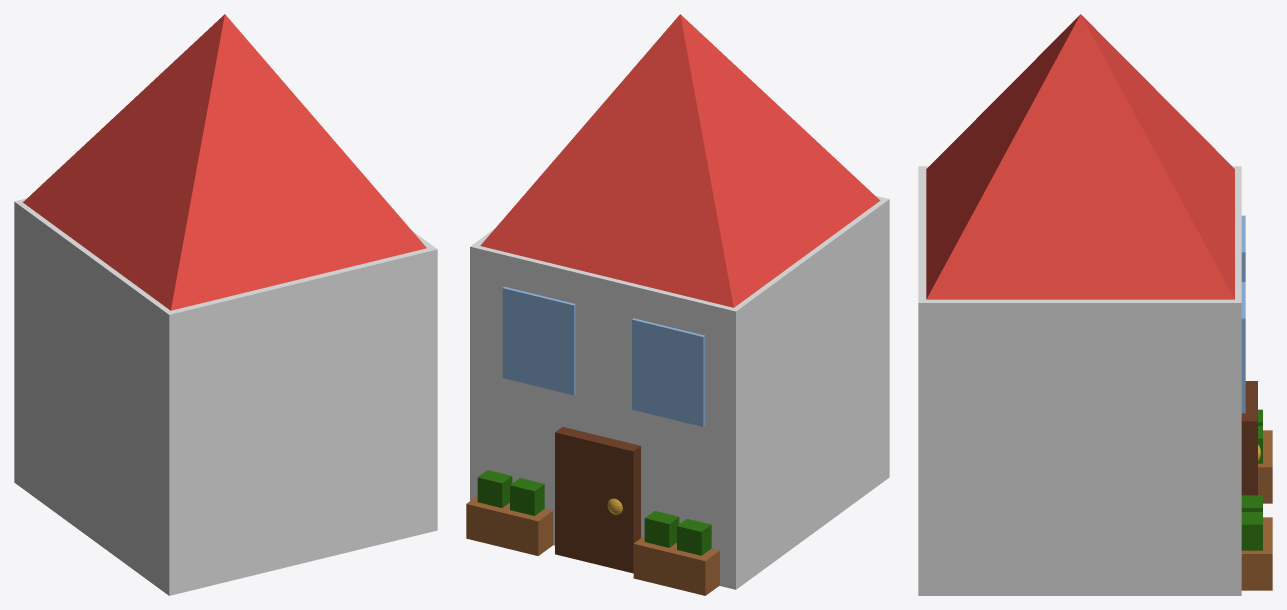
File: house.fbx
3 views of the same model, side by side, from view 1: azimuth 30°, elevation 25°; view 2: azimuth 150°, elevation 25°; view 3: azimuth 270°, elevation 25° (orthographic). The views are drawn at different scales.
Parts seen in each view (by area): view 1: Cube, Cone; view 2: Cube, Cone, Cube.001, Cube.003, Cube.002, Cube.004, Cube.005, Cube.008, Cube.009, Cube.006, Cube.007; view 3: Cube, Cone, Cube.001, Cube.005, Cube.004, Cube.009, Cube.003.
Boxes of the visible parts, box(x1,y1,x2,y2) form: Cube: box(14, 198, 437, 595); Cone: box(23, 14, 426, 310); Cube: box(470, 195, 889, 589); Cone: box(480, 14, 880, 307); Cube.001: box(555, 427, 640, 573); Cube.003: box(502, 286, 575, 395); Cube.002: box(632, 318, 705, 426); Cube.004: box(633, 536, 719, 595); Cube.005: box(466, 496, 552, 555); Cube.008: box(510, 478, 544, 515); Cube.009: box(477, 470, 512, 507); Cube.006: box(677, 518, 711, 555); Cube.007: box(644, 511, 679, 547); Cube: box(918, 166, 1241, 595); Cone: box(926, 14, 1234, 299); Cube.001: box(1241, 381, 1257, 495); Cube.005: box(1241, 517, 1272, 590); Cube.004: box(1258, 430, 1272, 503); Cube.009: box(1241, 512, 1262, 550); Cube.003: box(1241, 282, 1245, 413).
Bounding box in the file's own units: 200 × 351 × 219.
